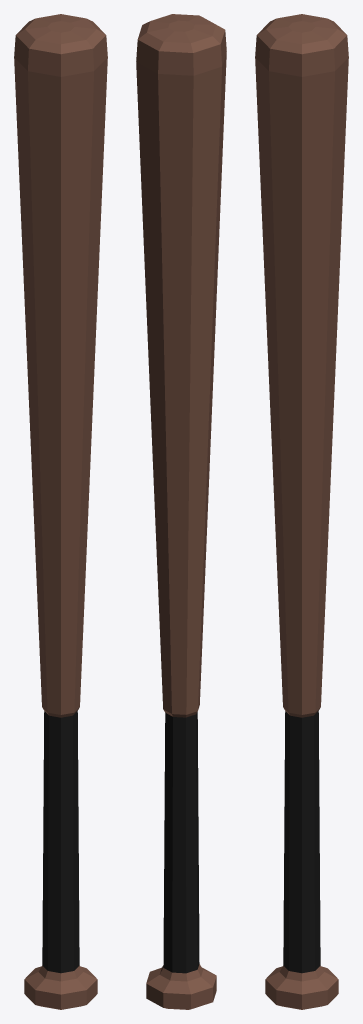
The model's file is Baseball bat.glb.
3 renders of one model, left to right at view 1: azimuth 90°, elevation 25°; view 2: azimuth 150°, elevation 25°; view 3: azimuth 270°, elevation 25°, orthographic.
Visible parts, largest first — view 1: Baseball_bat_Circle; view 2: Baseball_bat_Circle; view 3: Baseball_bat_Circle.
Boxes of the visible parts, left/top/right/bottom form: Baseball_bat_Circle: left=14, top=14, right=107, bottom=1009; Baseball_bat_Circle: left=136, top=14, right=226, bottom=1009; Baseball_bat_Circle: left=255, top=14, right=348, bottom=1009.
Bounding box in the file's own units: 1.3 × 14.83 × 1.3.
